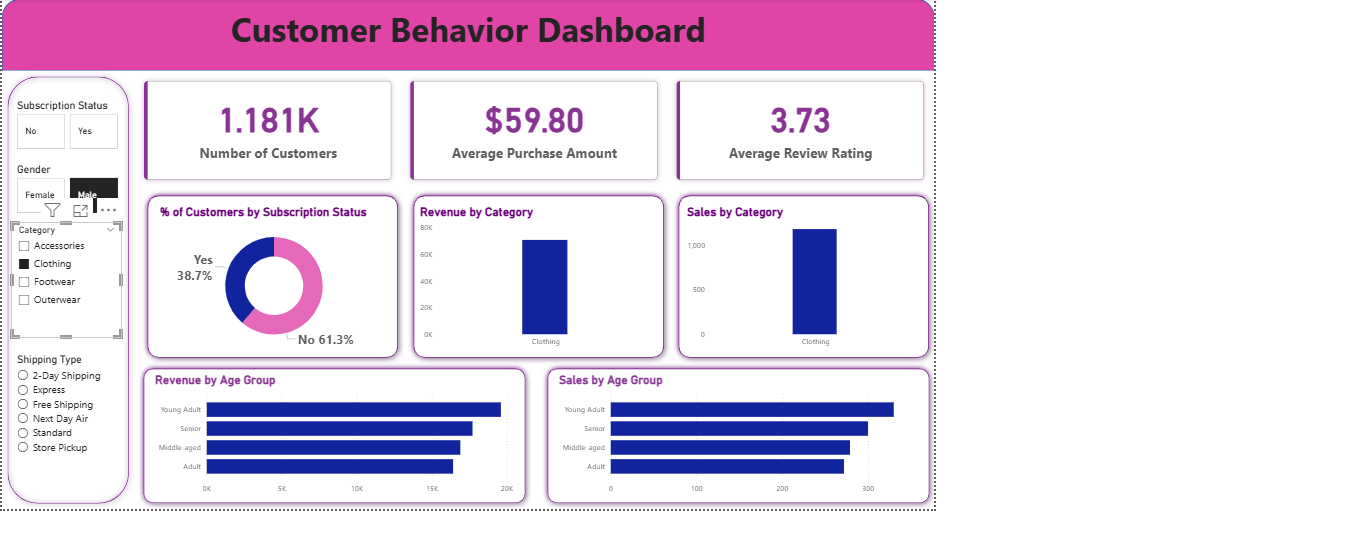

What the dashboard file says about the page in this screenshot:
{"tool":"powerbi","page":{"name":"Summary","canvas":[1500,820],"ordinal":0},"visuals":[{"type":"cardVisual","fields":{"Data":["public customer.Number of Customers","public customer.Average Purchase Amount","public customer.Average Review Rating"]},"box":[212.9,115.3,1286.5,191.6],"z":2000},{"type":"shape","box":[218.3,585.6,631.7,234.2],"z":2500,"group":"g1"},{"type":"shape","box":[0,0,1499.4,115.3],"z":3000},{"type":"textbox","box":[0,6.5,1500,103.2],"z":4000},{"type":"shape","box":[225.4,307,420.5,278.6],"z":5000},{"type":"donutChart","title":"% of Customers by Subscription Status","fields":{"Category":["public customer.subscription_status"],"Y":["CountNonNull(public customer.customer_id)"]},"box":[248.4,331.8,376.2,237.8],"z":6000},{"type":"shape","box":[1078.9,307,420.5,278.6],"z":7000},{"type":"shape","box":[652.1,307,420.5,278.6],"z":8000},{"type":"clusteredColumnChart","title":"Revenue by Category","fields":{"Y":["Sum(public customer.purchase_amount)"],"Category":["public customer.category"]},"box":[667.2,331.8,385.1,237.8],"z":9000},{"type":"clusteredColumnChart","title":"Sales by Category","fields":{"Y":["CountNonNull(public customer.customer_id)"],"Category":["public customer.category"]},"box":[1096.6,331.8,385.1,237.8],"z":10000},{"type":"shape","box":[0,115.3,212.9,704.5],"z":11000},{"type":"advancedSlicerVisual","fields":{"Values":["public customer.subscription_status"]},"box":[19.5,161.5,173.9,85.2],"z":12000},{"type":"advancedSlicerVisual","fields":{"Values":["public customer.gender"]},"box":[19.5,264.4,173.9,85.2],"z":13000},{"type":"slicer","fields":{"Values":["public customer.category"]},"box":[14.2,358.4,179.2,186.3],"z":14000},{"type":"listSlicer","fields":{"Values":["public customer.shipping_type"]},"box":[19.5,569.6,168.6,220],"z":15000},{"type":"shape","box":[867.7,585.6,631.7,234.2],"z":16000},{"type":"clusteredBarChart","title":"Sales by Age Group","fields":{"Y":["CountNonNull(public customer.customer_id)"],"Category":["public customer.age_group"]},"box":[890.8,601.5,585.6,204.1],"z":17000},{"type":"clusteredBarChart","title":"Revenue by Age Group","fields":{"Y":["Sum(public customer.purchase_amount)"],"Category":["public customer.age_group"]},"box":[241.4,601.6,585.6,204.1],"z":17500,"group":"g1"},{"type":"group","id":"g1","title":"Group 1","box":[218.3,585.6,631.7,234.2],"z":17501}]}

Visuals, with their boxes on the page's 1500x820 design canvas (x1, y1, x2, y2). These are canvas units, not pixel positions in the 1360x556 screenshot, which may show the page scaled, cropped or inside an application window:
cardVisual - public customer.Number of Customers x public customer.Average Purchase Amount: bbox(213, 115, 1499, 307)
shape: bbox(218, 586, 850, 820)
shape: bbox(0, 0, 1499, 115)
textbox: bbox(0, 6, 1500, 110)
shape: bbox(225, 307, 646, 586)
"% of Customers by Subscription Status" donutChart: bbox(248, 332, 625, 570)
shape: bbox(1079, 307, 1499, 586)
shape: bbox(652, 307, 1073, 586)
"Revenue by Category" clusteredColumnChart: bbox(667, 332, 1052, 570)
"Sales by Category" clusteredColumnChart: bbox(1097, 332, 1482, 570)
shape: bbox(0, 115, 213, 820)
advancedSlicerVisual - public customer.subscription_status: bbox(20, 162, 193, 247)
advancedSlicerVisual - public customer.gender: bbox(20, 264, 193, 350)
slicer - public customer.category: bbox(14, 358, 193, 545)
listSlicer - public customer.shipping_type: bbox(20, 570, 188, 790)
shape: bbox(868, 586, 1499, 820)
"Sales by Age Group" clusteredBarChart: bbox(891, 602, 1476, 806)
"Revenue by Age Group" clusteredBarChart: bbox(241, 602, 827, 806)
"Group 1" group: bbox(218, 586, 850, 820)
